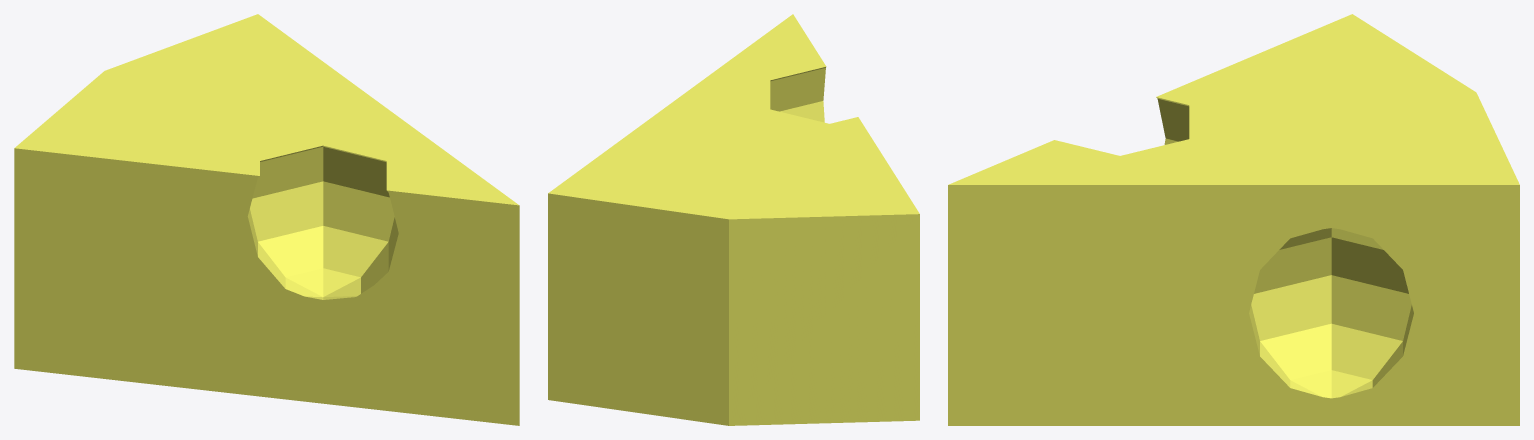
The model's file is Cheese.fbx.
3 renders of one model, left to right at view 1: azimuth 30°, elevation 25°; view 2: azimuth 150°, elevation 25°; view 3: azimuth 270°, elevation 25°, orthographic. The views are drawn at different scales.
Parts seen in each view (by area): view 1: Cheese; view 2: Cheese; view 3: Cheese.
Boxes of the visible parts, x1,y1,x2,y2 form: Cheese: [14, 14, 519, 425]; Cheese: [548, 14, 919, 425]; Cheese: [948, 14, 1519, 425].
Size of the model in its own units: 30 by 21.21 by 13.95.
